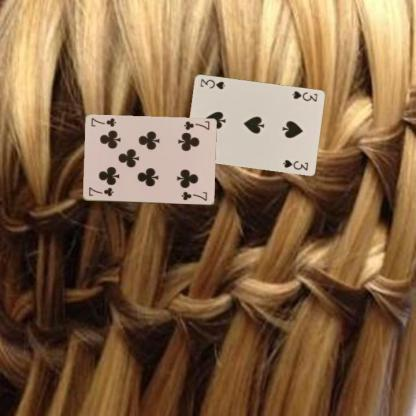3s: (289, 88, 318, 103)
7c: (180, 118, 210, 132), (86, 185, 115, 197)
